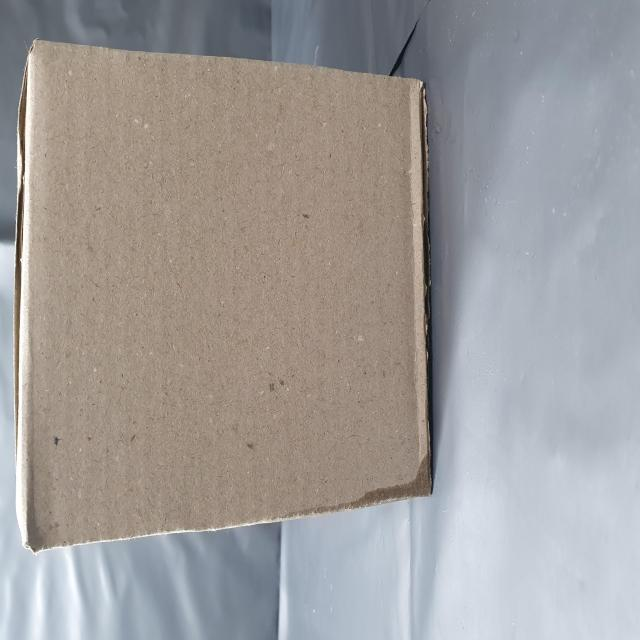wet: (75, 637, 108, 640)
